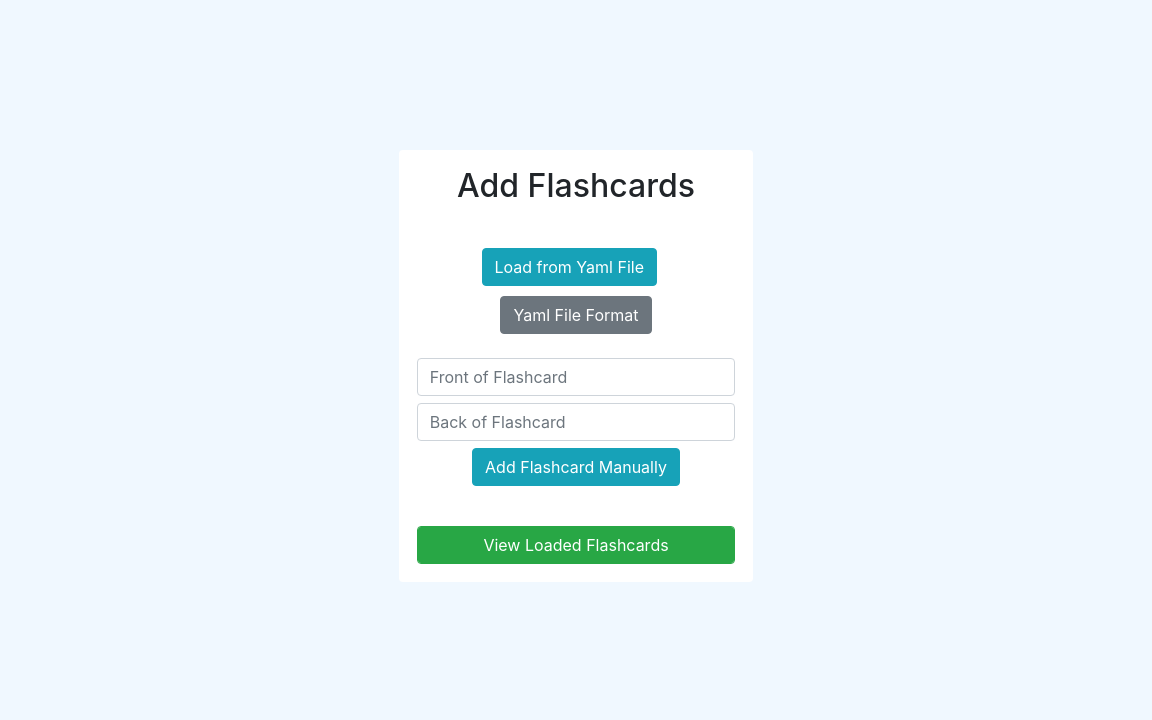
Render popup with flashcard and flip flashcard
This screenshot has width=1152, height=720.
In the field with id "new-flashcard-front": (576, 377) [417,358,735,396], type "front of flashcard"
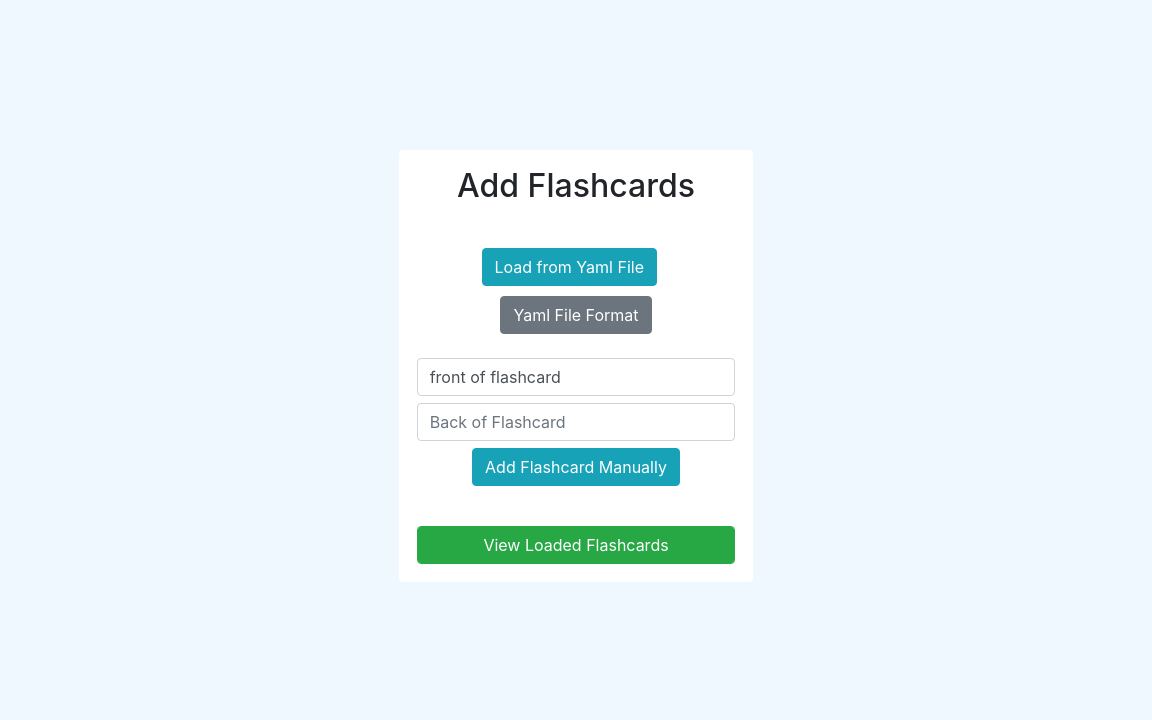
In the field with id "new-flashcard-back": (576, 422) [417,403,735,441], type "back of flashcard"
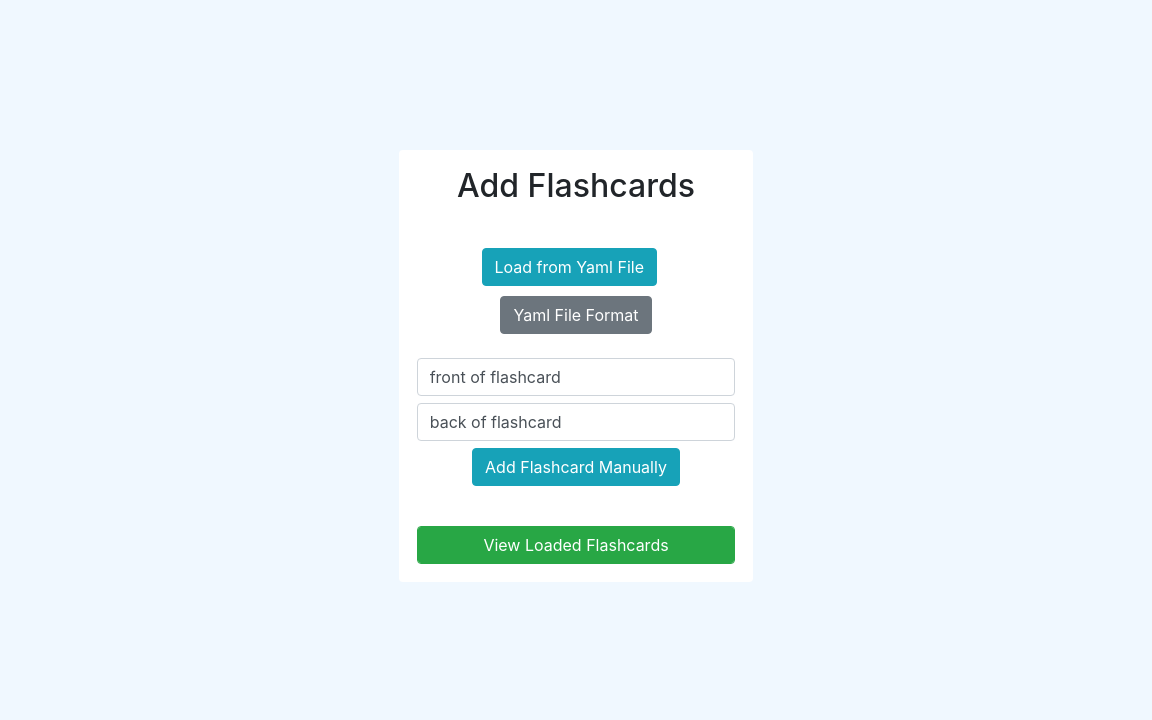
Click the button with id "submitButton": (576, 467) [472,448,680,486]
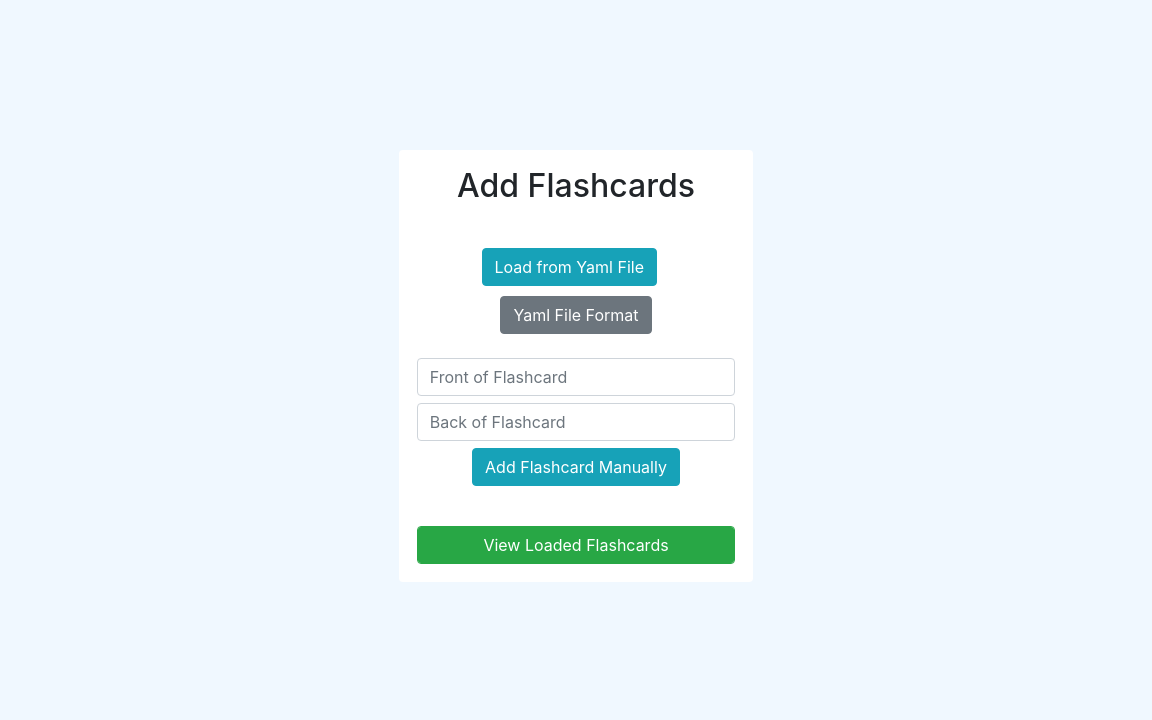
Click the button "View Loaded Flashcards": (576, 545) [417,526,735,564]
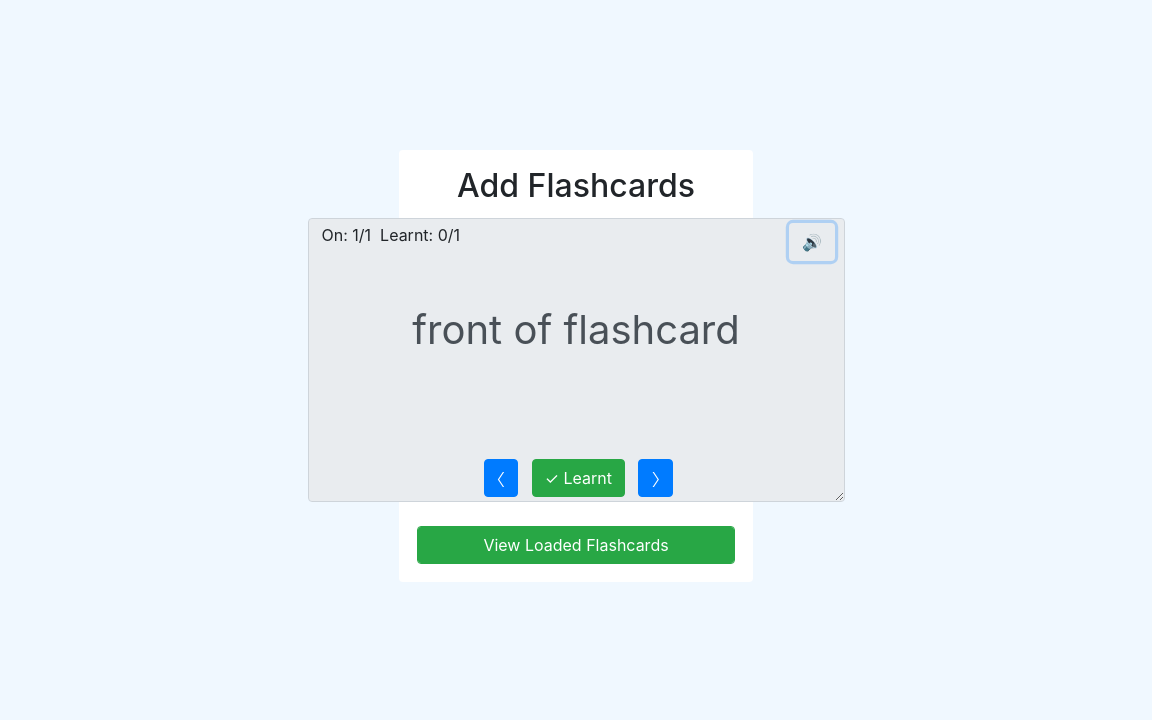
Check: the text box "front of flashcard" is shown, box [308,218,844,502]
Click the text with id "flashcardStatusSection": (386, 236) [312,226,460,246]
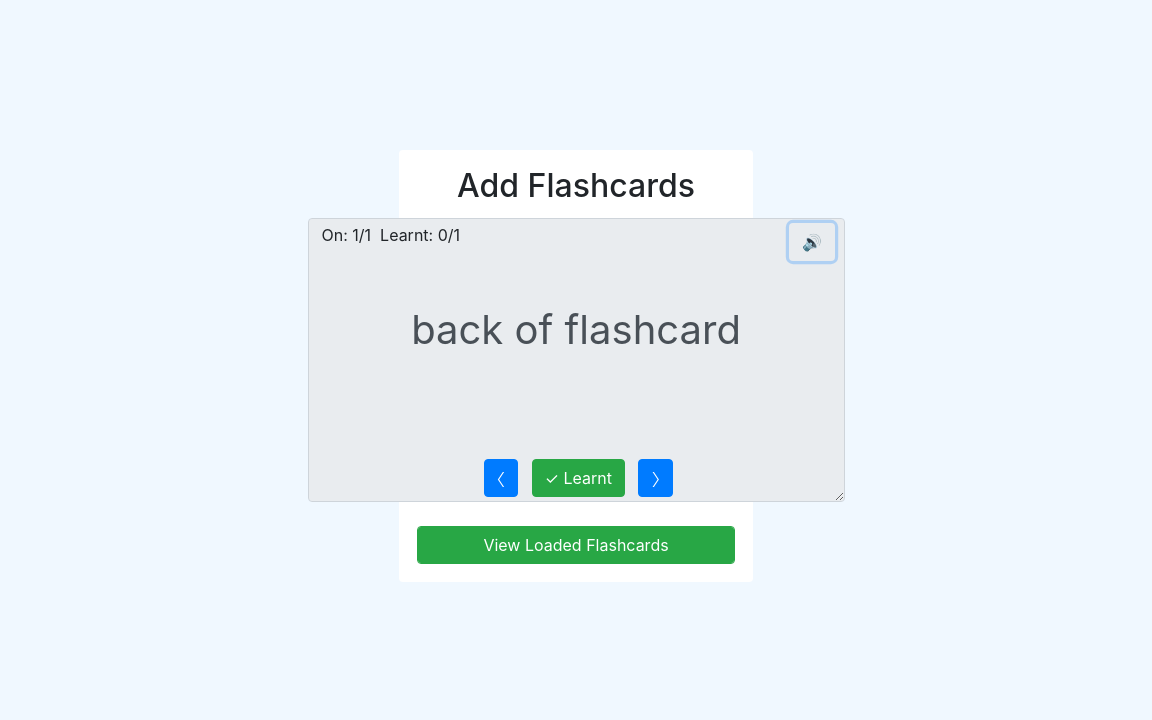
Check: the text box "back of flashcard" is shown, box [308,218,844,502]
